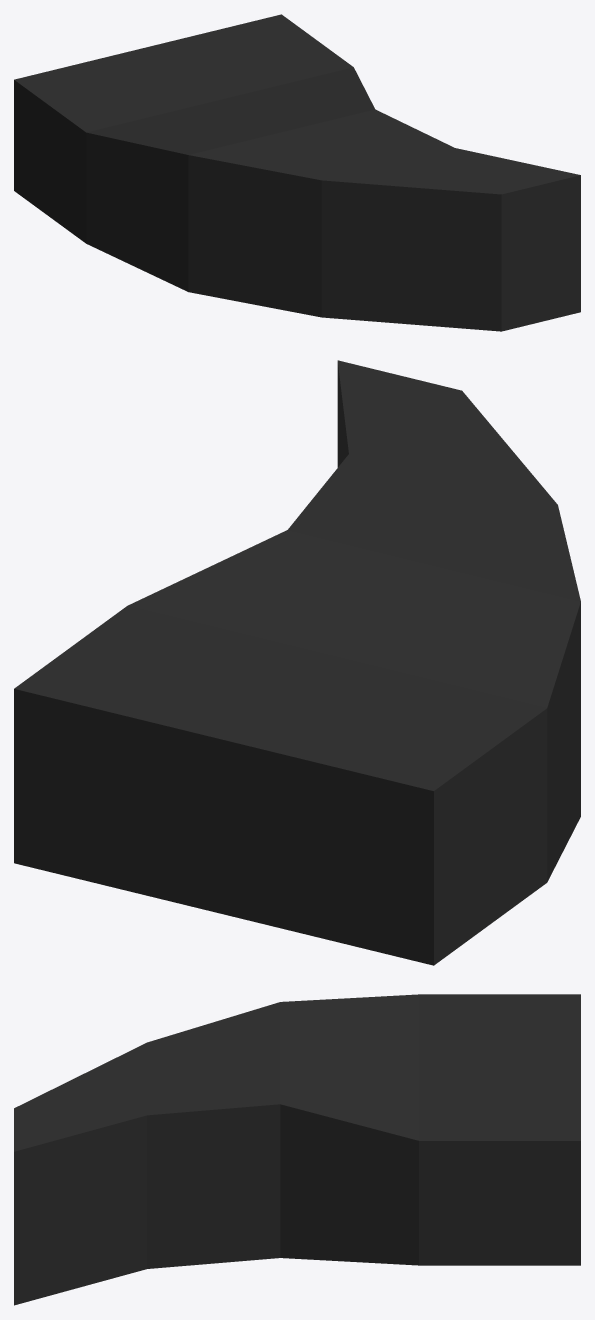
The model's file is SniperRifle2_04_3.fbx.
The picture shows the model from 3 angles, top to bottom: view 1: azimuth 30°, elevation 25°; view 2: azimuth 150°, elevation 25°; view 3: azimuth 270°, elevation 25°; orthographic projection. The views are drawn at different scales.
Visible parts, largest first — view 1: SniperRifle2_04_3; view 2: SniperRifle2_04_3; view 3: SniperRifle2_04_3.
Part boxes in pixels (bbox=[...]): SniperRifle2_04_3: bbox=[14, 14, 580, 331]; SniperRifle2_04_3: bbox=[14, 360, 580, 965]; SniperRifle2_04_3: bbox=[14, 994, 580, 1305].
Bounding box in the file's own units: 0.0178 × 0.00741 × 0.0248.
